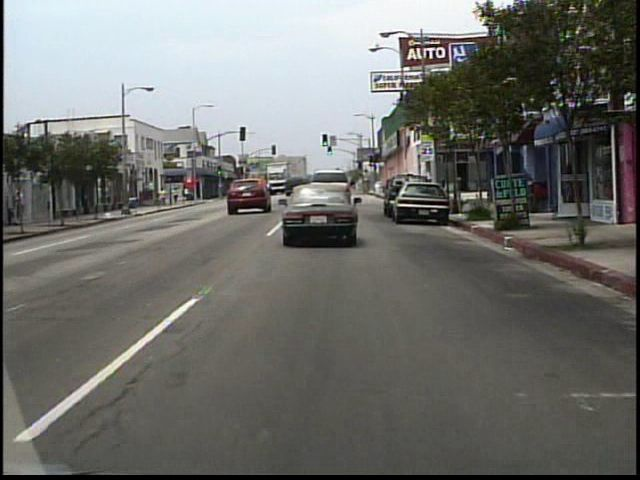person: (14, 187, 25, 225), (160, 186, 168, 207), (170, 187, 175, 206)
